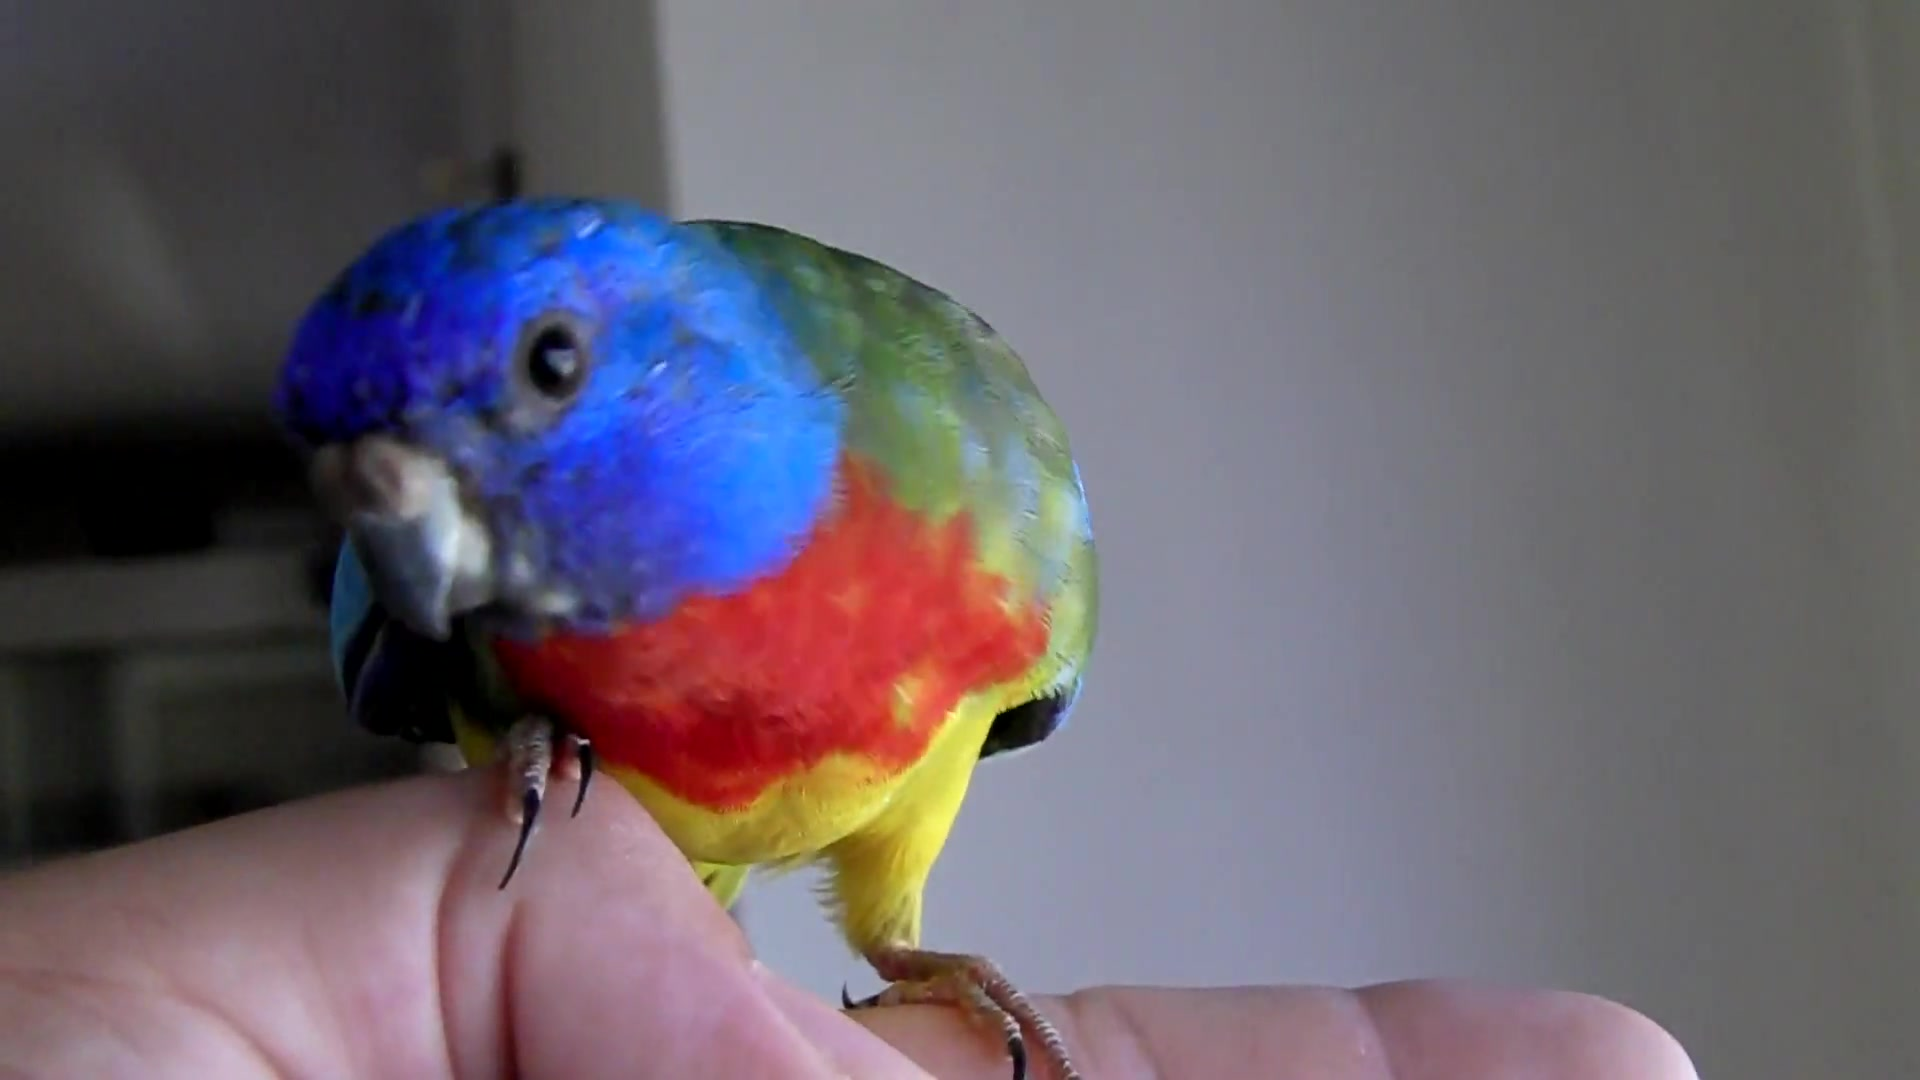bird: (277, 196, 1104, 1077)
